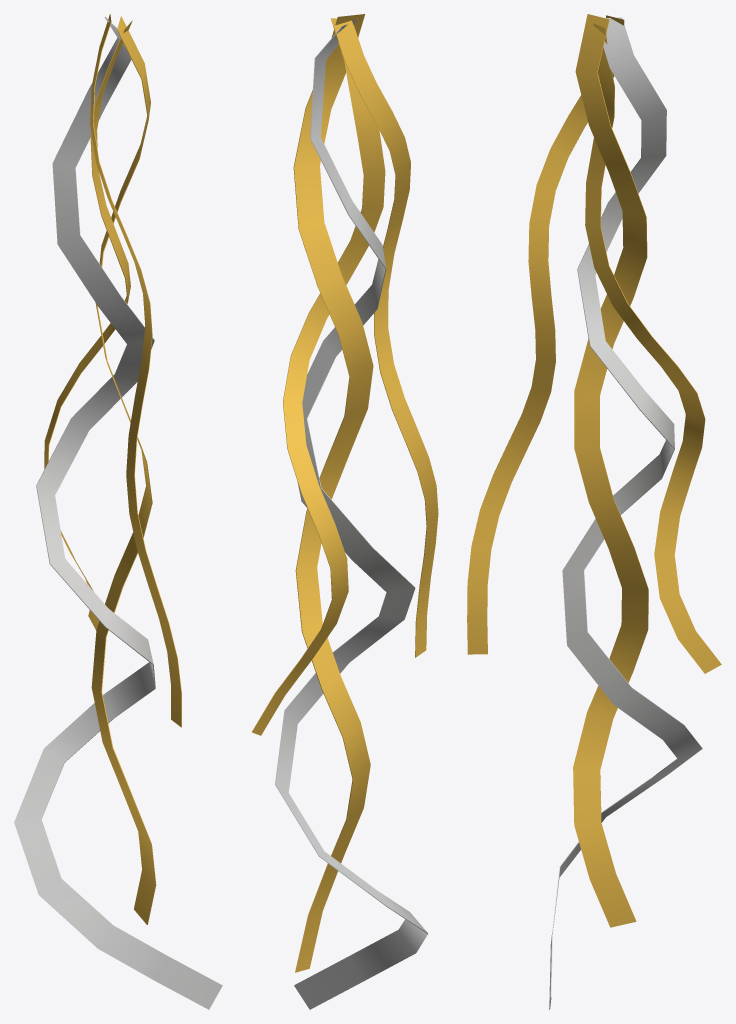
Rendered from PartyBalloons02_Decor2.FBX.
3 views of the same model, side by side, from view 1: azimuth 30°, elevation 25°; view 2: azimuth 150°, elevation 25°; view 3: azimuth 270°, elevation 25° (orthographic). The views are drawn at different scales.
Visible parts, largest first — view 1: PartyBalloons02_Decor2; view 2: PartyBalloons02_Decor2; view 3: PartyBalloons02_Decor2.
Boxes of the visible parts, left/top/right/bottom form: PartyBalloons02_Decor2: left=14, top=14, right=222, bottom=1009; PartyBalloons02_Decor2: left=252, top=14, right=438, bottom=1009; PartyBalloons02_Decor2: left=467, top=14, right=721, bottom=1009.
Bounding box in the file's own units: 0.0785 × 0.473 × 0.1134.
